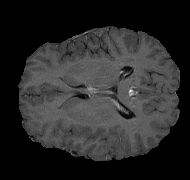Edema: (24, 84, 141, 149)
Necrosis: (26, 84, 137, 119)
